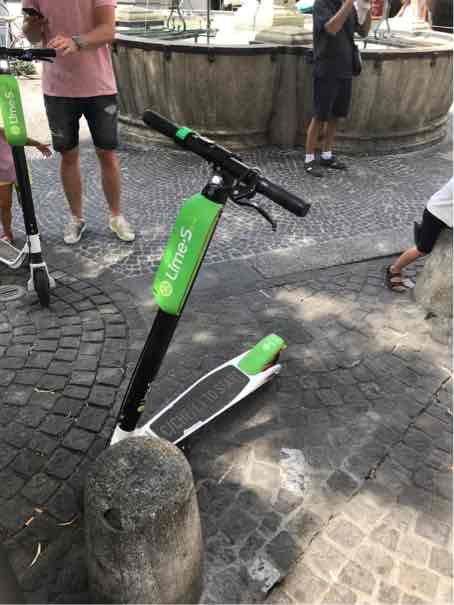scooter: (82, 96, 320, 580)
